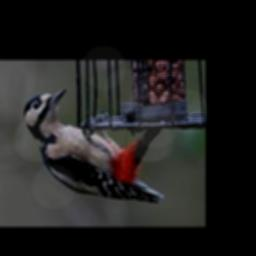Woodpecker: (23, 88, 163, 202)
